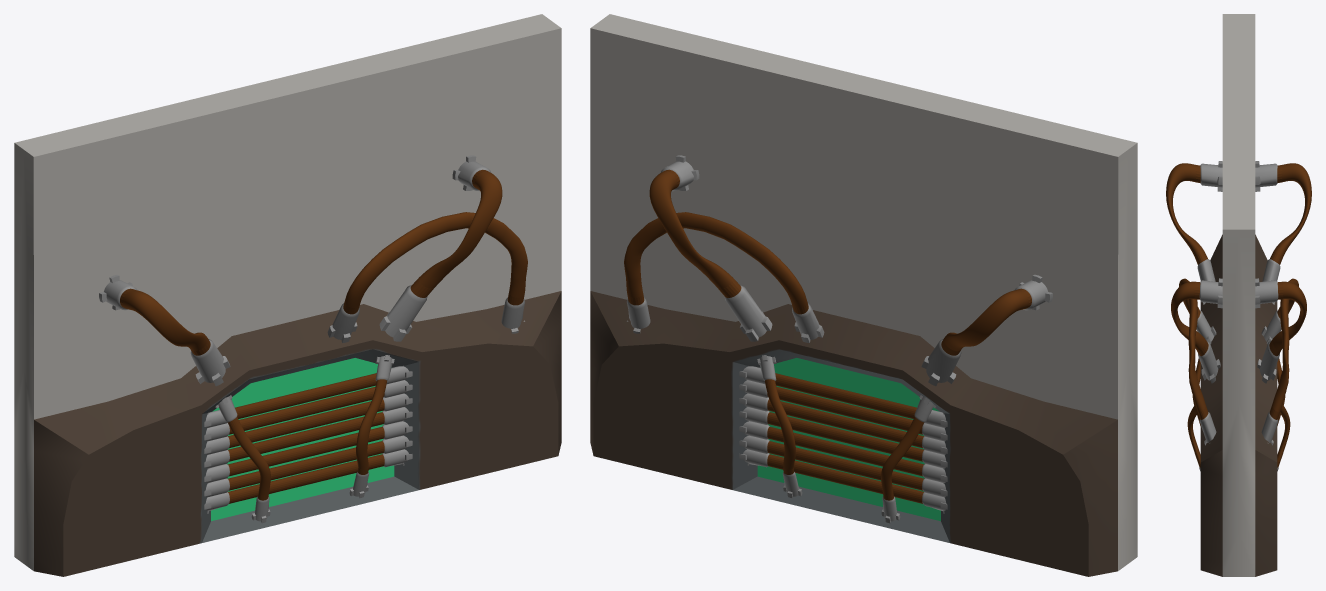
The model's file is Door.fbx.
The picture shows the model from 3 angles, left to right: view 1: azimuth 30°, elevation 25°; view 2: azimuth 150°, elevation 25°; view 3: azimuth 270°, elevation 25°; orthographic projection. The views are drawn at different scales.
Visible parts, largest first — view 1: polySurface15; view 2: polySurface15; view 3: polySurface15.
Boxes of the visible parts, left/top/right/bottom form: polySurface15: left=14, top=14, right=561, bottom=576; polySurface15: left=590, top=14, right=1137, bottom=576; polySurface15: left=1166, top=14, right=1311, bottom=576.
Size of the model in its own units: 400 by 300 by 114.
5 materials, 5 textured.
